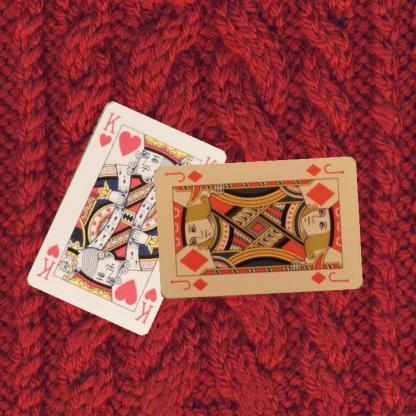Jd: (303, 161, 345, 178), (168, 276, 209, 292)
Kh: (131, 284, 158, 326), (96, 108, 123, 148)
